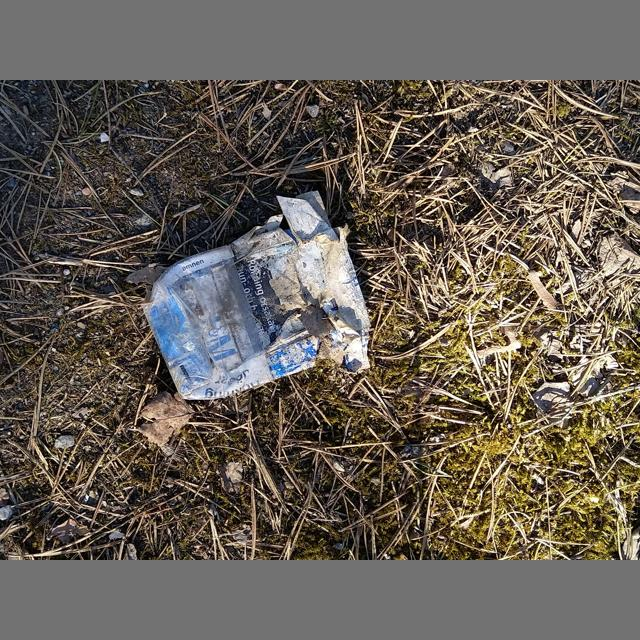litter: (141, 191, 371, 400), (141, 245, 273, 400)
